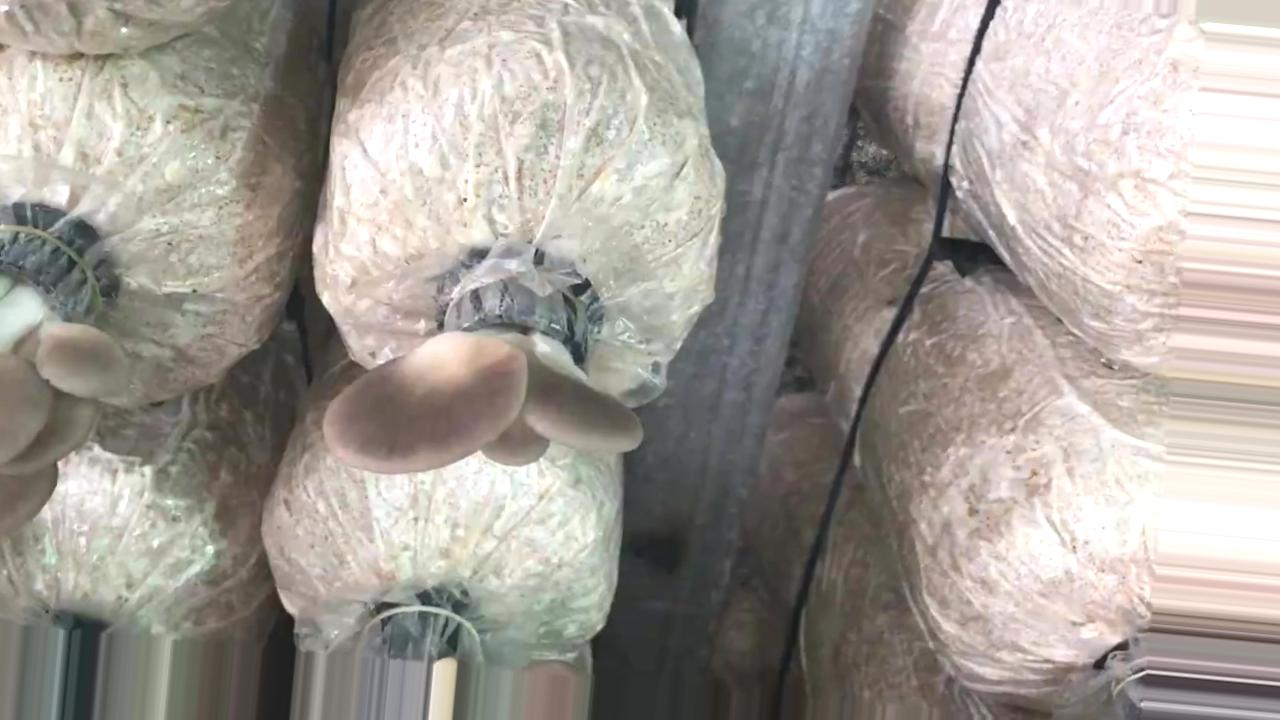nam: (324, 253, 646, 480), (1, 225, 131, 537)
